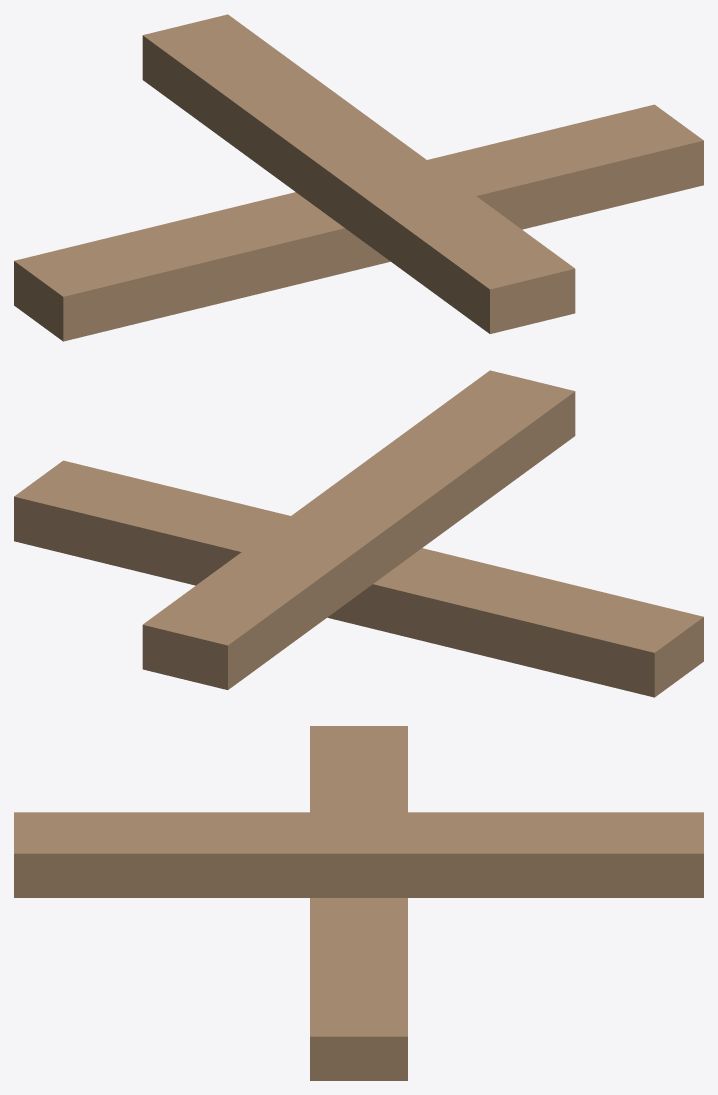
File: beam_cross.glb
The picture shows the model from 3 angles, top to bottom: view 1: azimuth 30°, elevation 25°; view 2: azimuth 150°, elevation 25°; view 3: azimuth 270°, elevation 25°; orthographic projection.
Parts seen in each view (by area): view 1: world; view 2: world; view 3: world.
Part boxes in pixels (box(x1,y1,x2,y2)): world: box(14, 14, 703, 341); world: box(14, 370, 703, 697); world: box(14, 726, 703, 1080).
Size of the model in its own units: 3.3 by 0.46 by 3.1.
